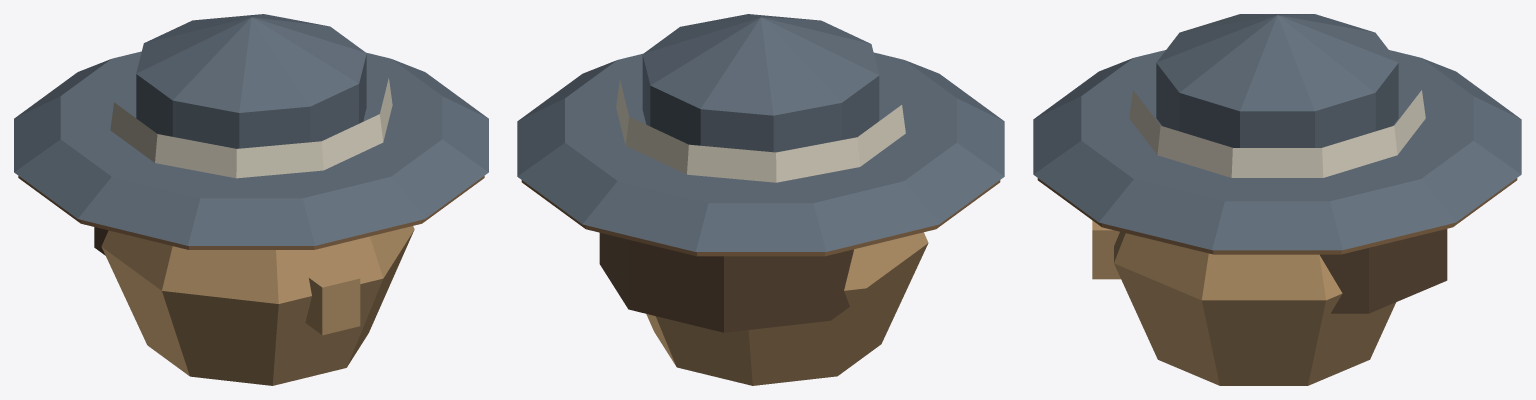
File: villager-head-felthat.glb
3 renders of one model, left to right at view 1: azimuth 30°, elevation 25°; view 2: azimuth 150°, elevation 25°; view 3: azimuth 270°, elevation 25°, orthographic. The views are drawn at different scales.
Visible parts, largest first — view 1: head; view 2: head; view 3: head.
Part boxes in pixels (left/top/right/bottom): head: left=14, top=14, right=488, bottom=385; head: left=517, top=14, right=1004, bottom=385; head: left=1033, top=14, right=1521, bottom=385.
Bounding box in the file's own units: 1.08 × 0.9025 × 1.08.
Materials: 1 (1 with a texture image).
